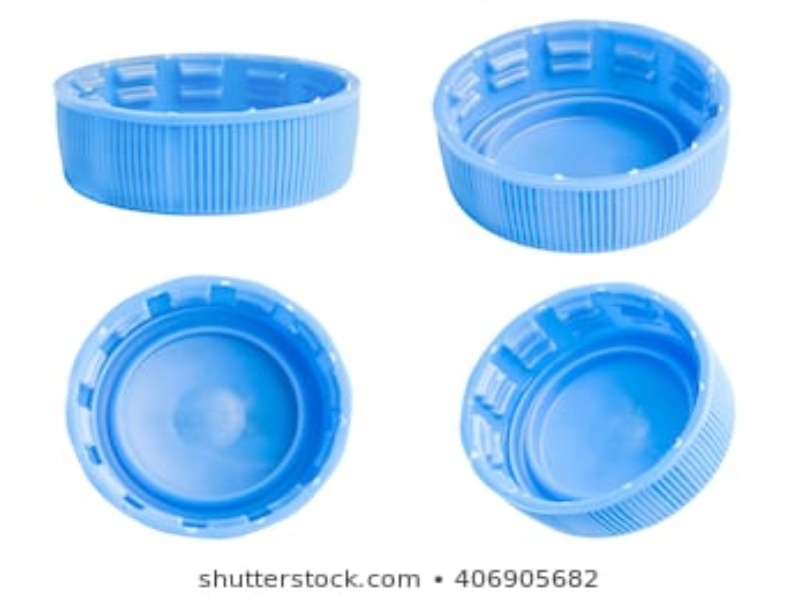bottle-cap: (61, 270, 355, 539), (459, 278, 738, 538), (430, 20, 734, 255), (53, 54, 362, 218)
